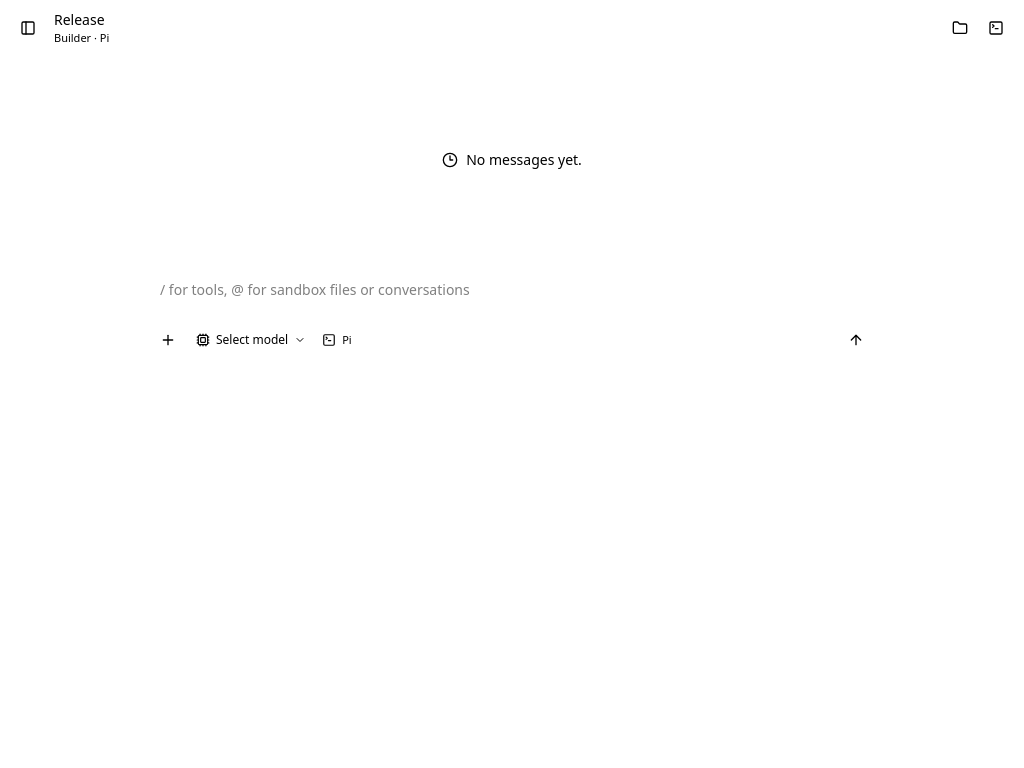
it: Work attachment transaction failures › rejects invalid Work command /clear without losing the text
Type "/clear" into the dropdown named "What should the Agent accomplish?" at (512,296), box [152,272,872,320]
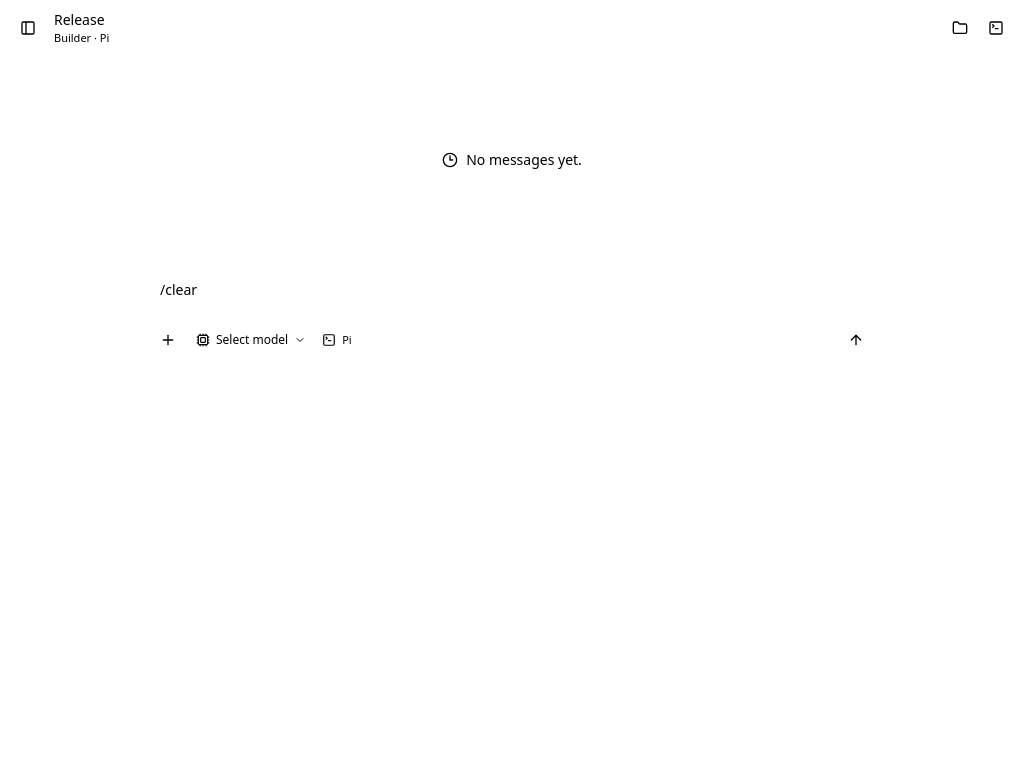
Click the button named "Send prompt" at (856,340), box [840,324,872,356]
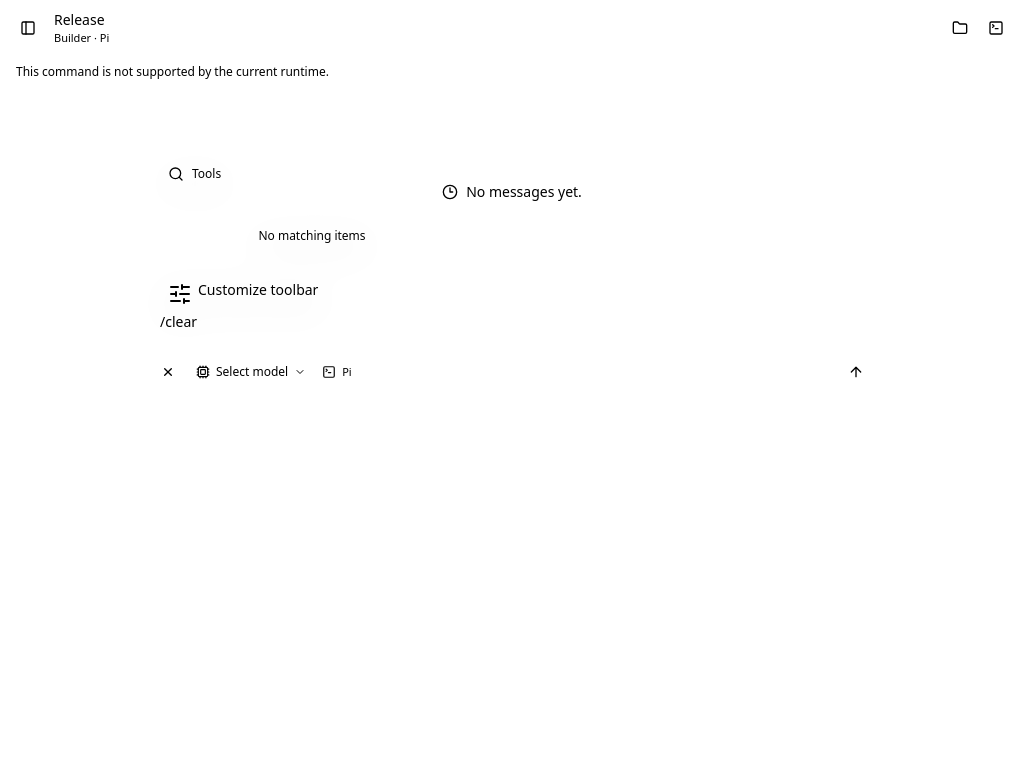
Check: the text "This command is not supported by the current runtime." is shown, box [16,63,329,80]
